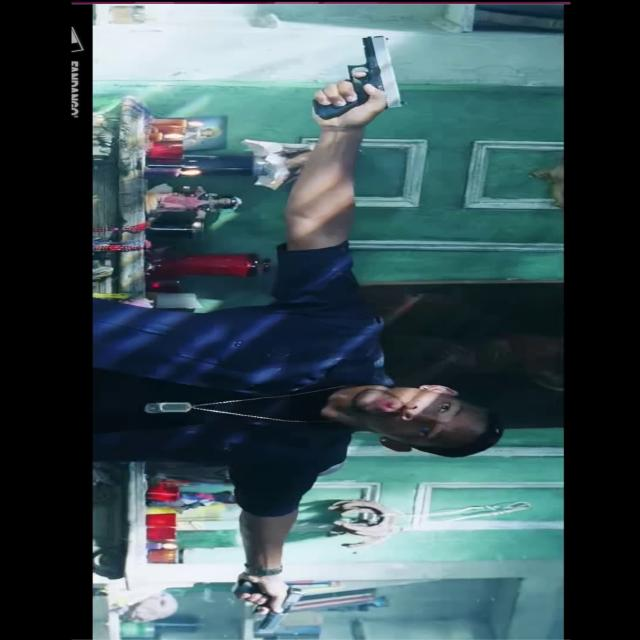weapons: (299, 30, 416, 126), (223, 572, 321, 634)
